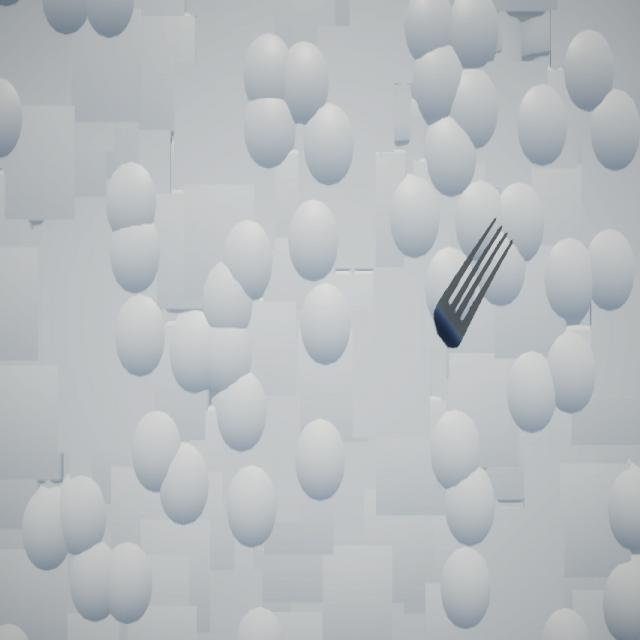top_folk: (434, 218, 515, 349)
